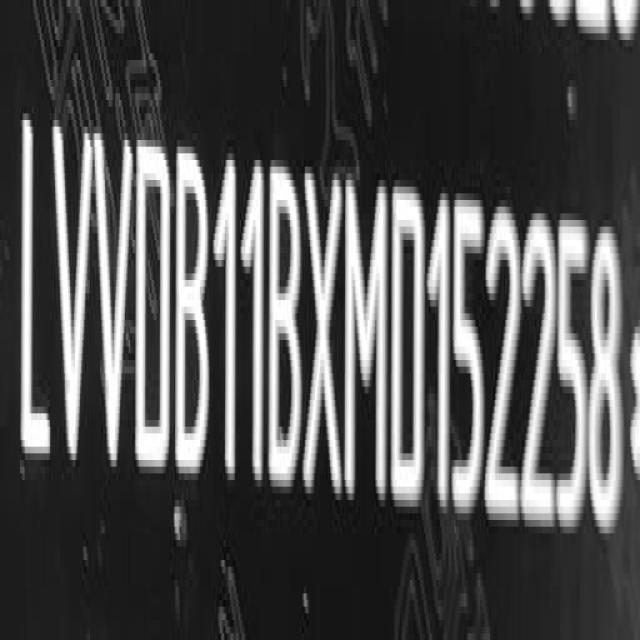1: (214, 144, 238, 494), (242, 150, 264, 495), (428, 186, 450, 518)
2: (486, 198, 522, 534), (523, 209, 557, 540)
5: (453, 188, 486, 526), (558, 217, 590, 539)
8: (592, 220, 622, 540)
B: (179, 143, 213, 490), (269, 156, 302, 497)
D: (134, 130, 171, 482), (394, 180, 428, 512)
L: (18, 111, 52, 478)
M: (345, 172, 389, 511)
V: (51, 123, 93, 477), (96, 122, 135, 479)
X: (304, 163, 344, 503)
